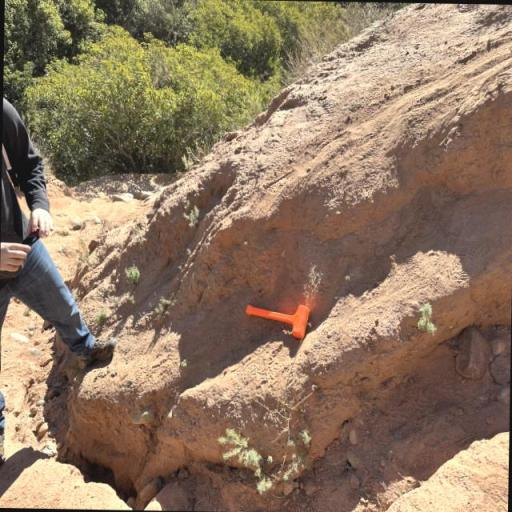mallet: (244, 304, 310, 339)
